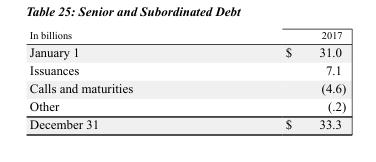table: (28, 29, 345, 130)
table column: (28, 29, 208, 130), (208, 29, 345, 130)
table row: (28, 42, 345, 60), (28, 60, 345, 78), (28, 78, 345, 96), (28, 96, 345, 114), (28, 114, 345, 130), (28, 29, 345, 42)
